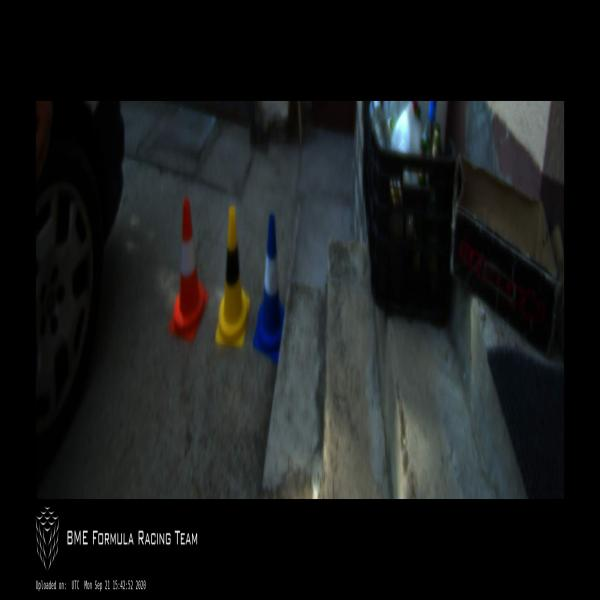blue_cone: (253, 214, 285, 364)
orange_cone: (167, 196, 209, 343)
yellow_cone: (216, 206, 250, 348)
